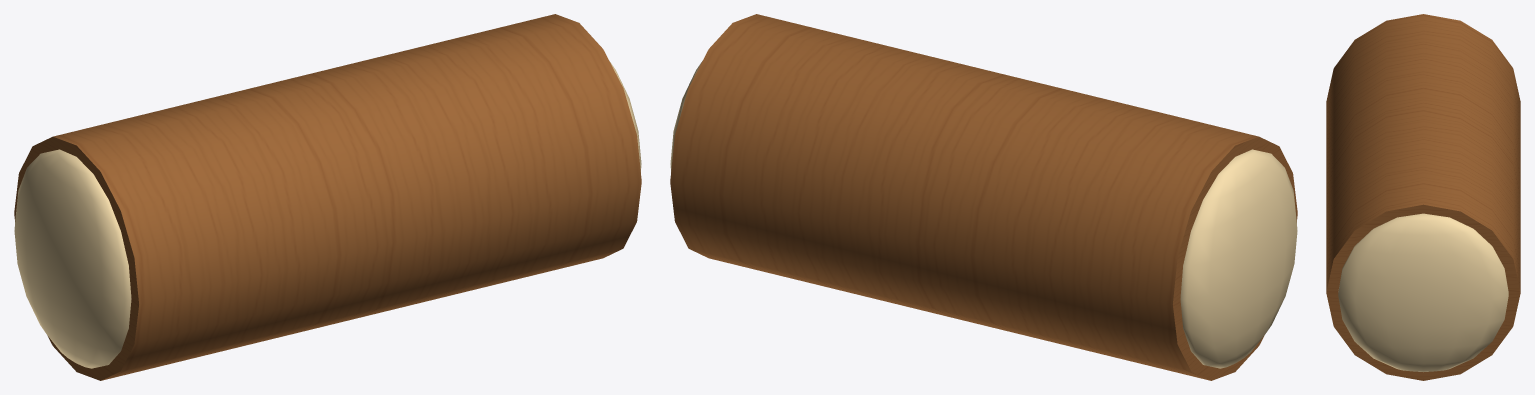
Rendered from log.glb.
The picture shows the model from 3 angles, left to right: view 1: azimuth 30°, elevation 25°; view 2: azimuth 150°, elevation 25°; view 3: azimuth 270°, elevation 25°; orthographic projection. The views are drawn at different scales.
Bounding box in the file's own units: 1.45 × 0.56 × 0.56.
Materials: 2 (1 with a texture image).
